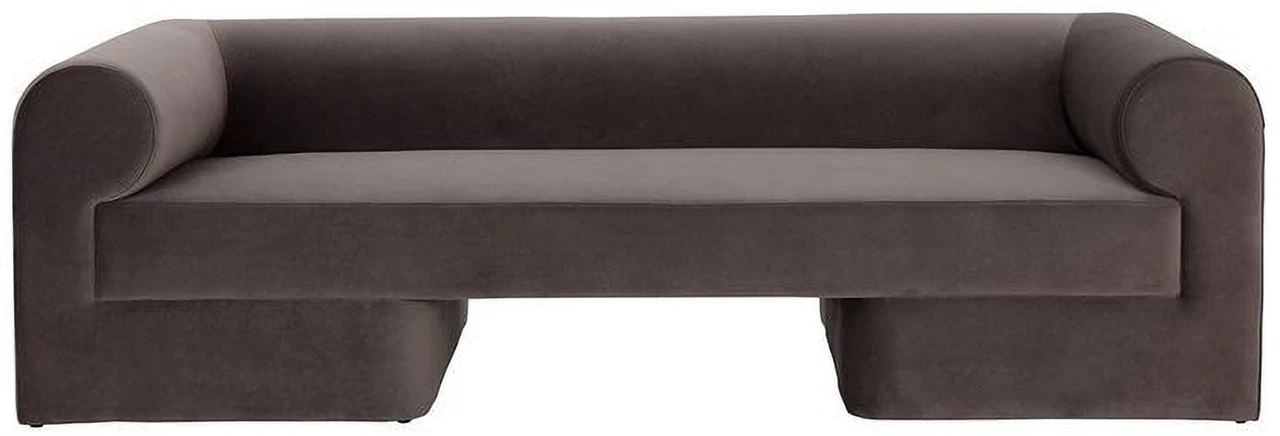3seatersofa: (10, 13, 1270, 424)
backrest: (205, 15, 1086, 153)
leftarmrest: (824, 14, 1264, 418)
leg: (26, 423, 43, 427), (397, 419, 412, 423), (1234, 420, 1248, 421)
rightarmrest: (15, 197, 465, 423), (15, 20, 227, 396)
seat: (90, 149, 1184, 299)
